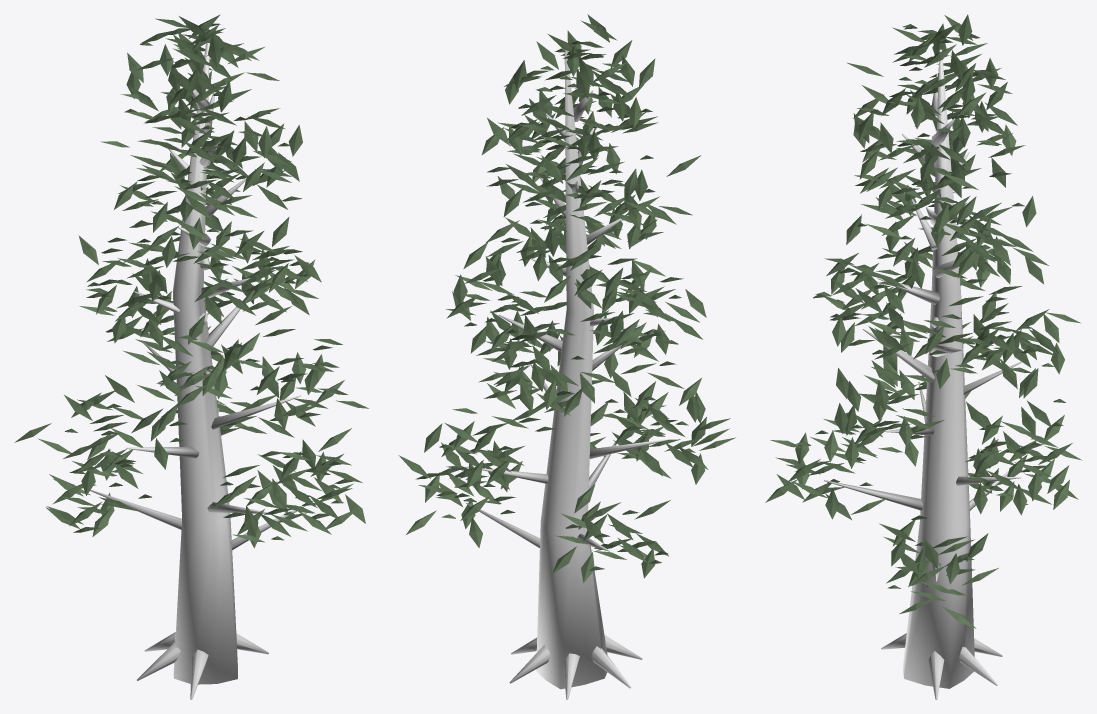
Rendered from environment-garden-tree-v2.glb.
3 renders of one model, left to right at view 1: azimuth 30°, elevation 25°; view 2: azimuth 150°, elevation 25°; view 3: azimuth 270°, elevation 25°, orthographic.
Visible parts, largest first — view 1: Airy garden crown, forest-atlas-surface; view 2: Airy garden crown, forest-atlas-surface; view 3: Airy garden crown, forest-atlas-surface.
Part boxes in pixels (bbox=[...]): Airy garden crown: bbox=[14, 14, 368, 548]; forest-atlas-surface: bbox=[90, 42, 313, 699]; Airy garden crown: bbox=[398, 14, 735, 583]; forest-atlas-surface: bbox=[466, 50, 668, 699]; Airy garden crown: bbox=[765, 14, 1081, 628]; forest-atlas-surface: bbox=[824, 49, 1021, 699].
Size of the model in its own units: 3.09 by 6.44 by 2.86.
